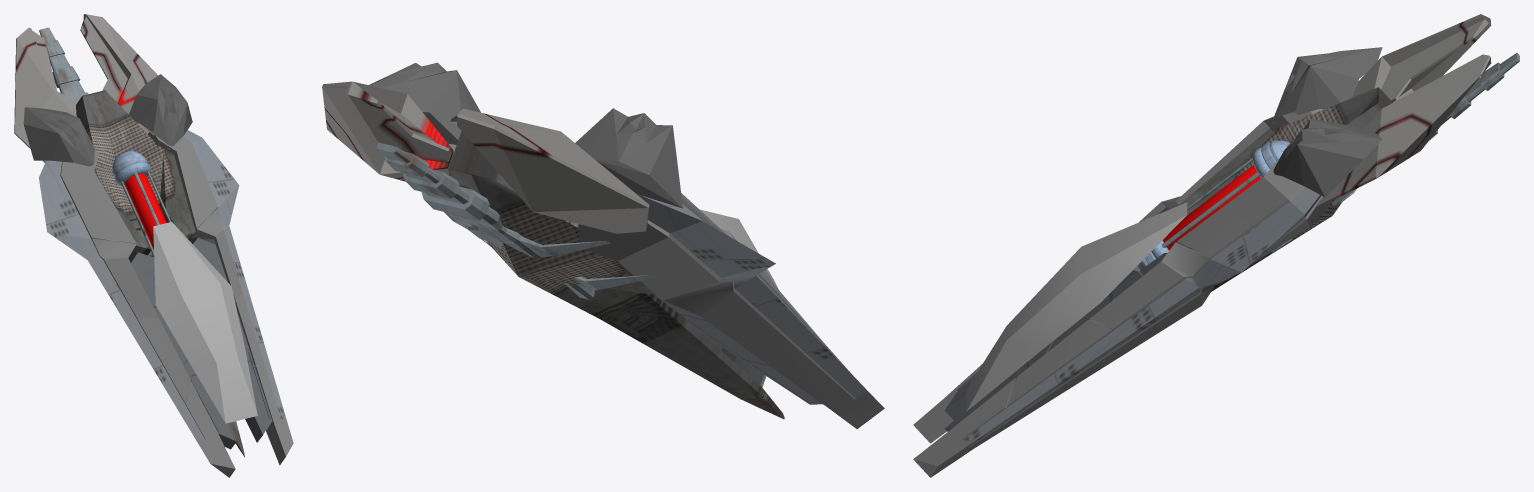
Rendered from weakclose.fbx.
3 views of the same model, side by side, from view 1: azimuth 30°, elevation 25°; view 2: azimuth 150°, elevation 25°; view 3: azimuth 270°, elevation 25° (orthographic). The views are drawn at different scales.
Visible parts, largest first — view 1: hane1:polySurface3334, hane1:polySurface3333; view 2: hane1:polySurface3334, hane1:polySurface3333; view 3: hane1:polySurface3334, hane1:polySurface3333.
Part boxes in pixels (x1,y1,x2,y2): hane1:polySurface3334: [14, 14, 293, 477]; hane1:polySurface3333: [153, 222, 257, 423]; hane1:polySurface3334: [322, 62, 884, 428]; hane1:polySurface3333: [699, 209, 778, 289]; hane1:polySurface3334: [913, 14, 1519, 477]; hane1:polySurface3333: [966, 202, 1187, 411].
Bounding box in the file's own units: 3.97 × 6.03 × 7.77.
